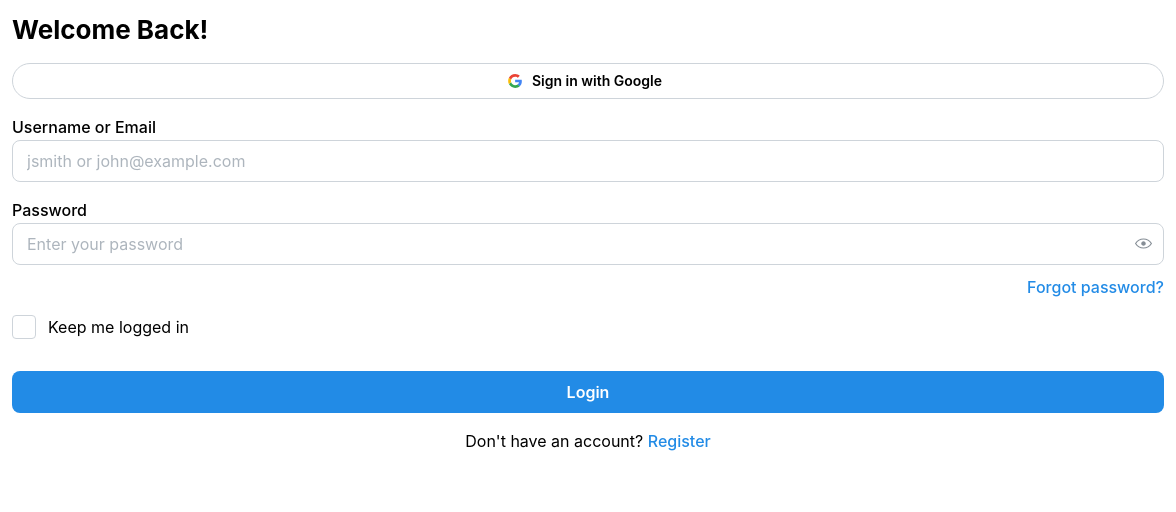
Test: LoginForm › Login Form Functionality › Form Validation › Shows validation errors on empty form submission
// User clicks the Login button
Click the button "Login" at (588, 392), box [12,372,1164,414]
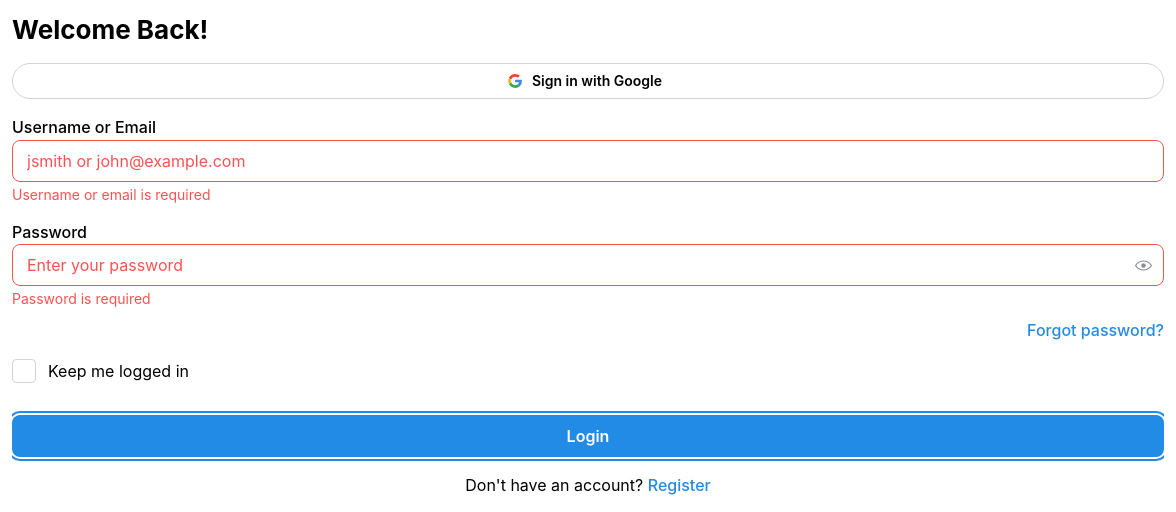
Now the text "Username or email is required" is shown, box [12,186,210,203]
Now the text "Password is required" is shown, box [12,290,151,308]
